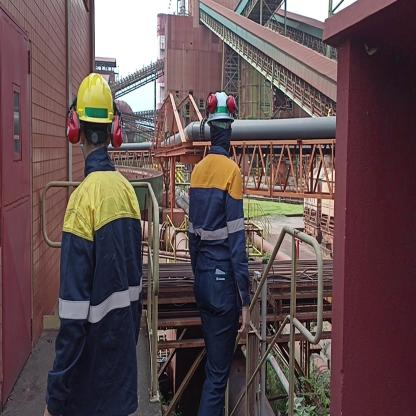Balaclava: (211, 119, 229, 151)
C_eletrica: (55, 180, 144, 408)
Capacete: (74, 75, 118, 124), (208, 90, 232, 118)
Operacional: (188, 154, 252, 310)
